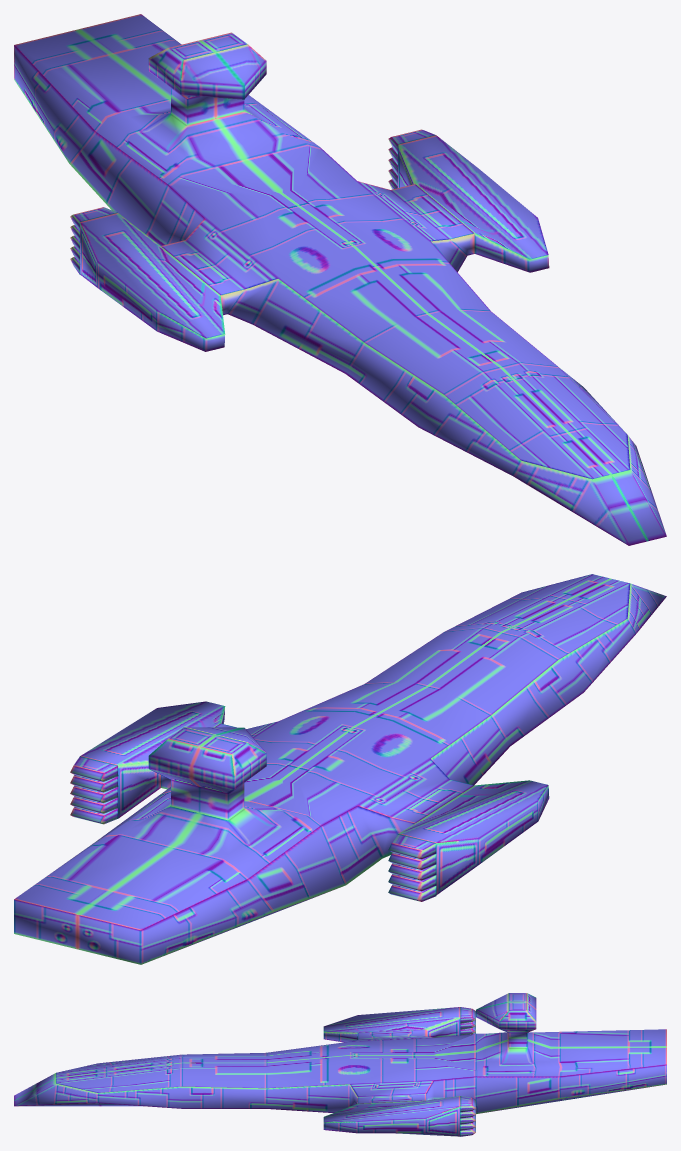
The model's file is MotherShip.fbx.
3 views of the same model, one above another, from view 1: azimuth 30°, elevation 25°; view 2: azimuth 150°, elevation 25°; view 3: azimuth 270°, elevation 25° (orthographic). The views are drawn at different scales.
Parts seen in each view (by area): view 1: MotherShip; view 2: MotherShip; view 3: MotherShip.
Boxes of the visible parts, x1,y1,x2,y2 form: MotherShip: [14, 14, 666, 545]; MotherShip: [14, 574, 666, 964]; MotherShip: [14, 993, 666, 1136].
Bounding box in the file's own units: 3002 × 1300 × 7774.
